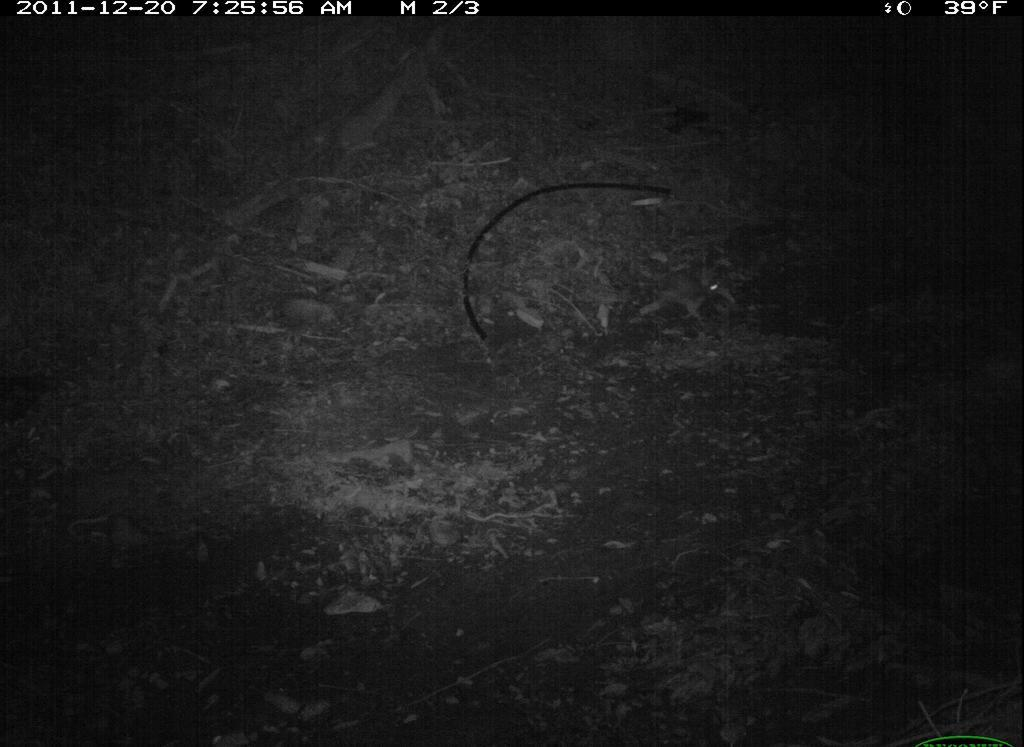rabbit: (641, 263, 740, 329)
